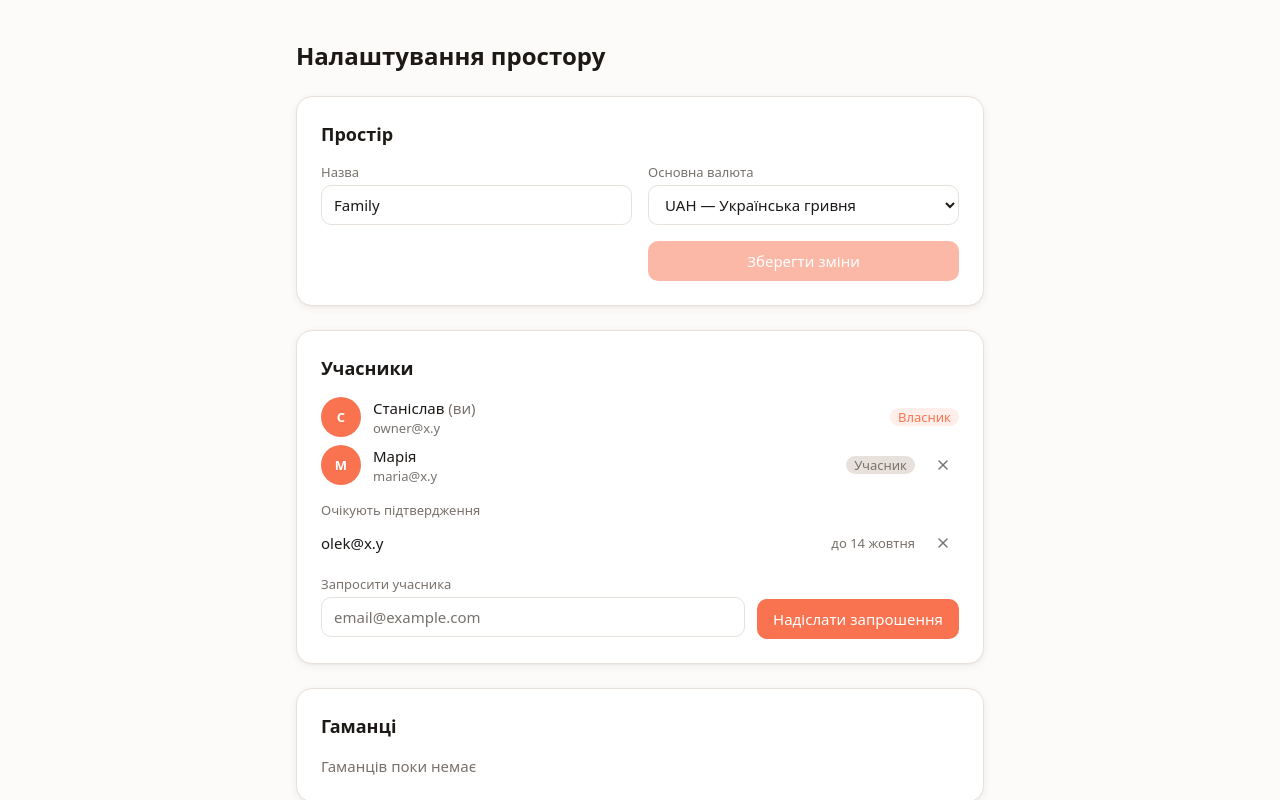
Test: Settings — space management › shows a refusal in the user's language
The width and height of the screenshot is (1280, 800).
Click the button named "Прибрати: Марія" at (943, 465), box [927,449,959,481]
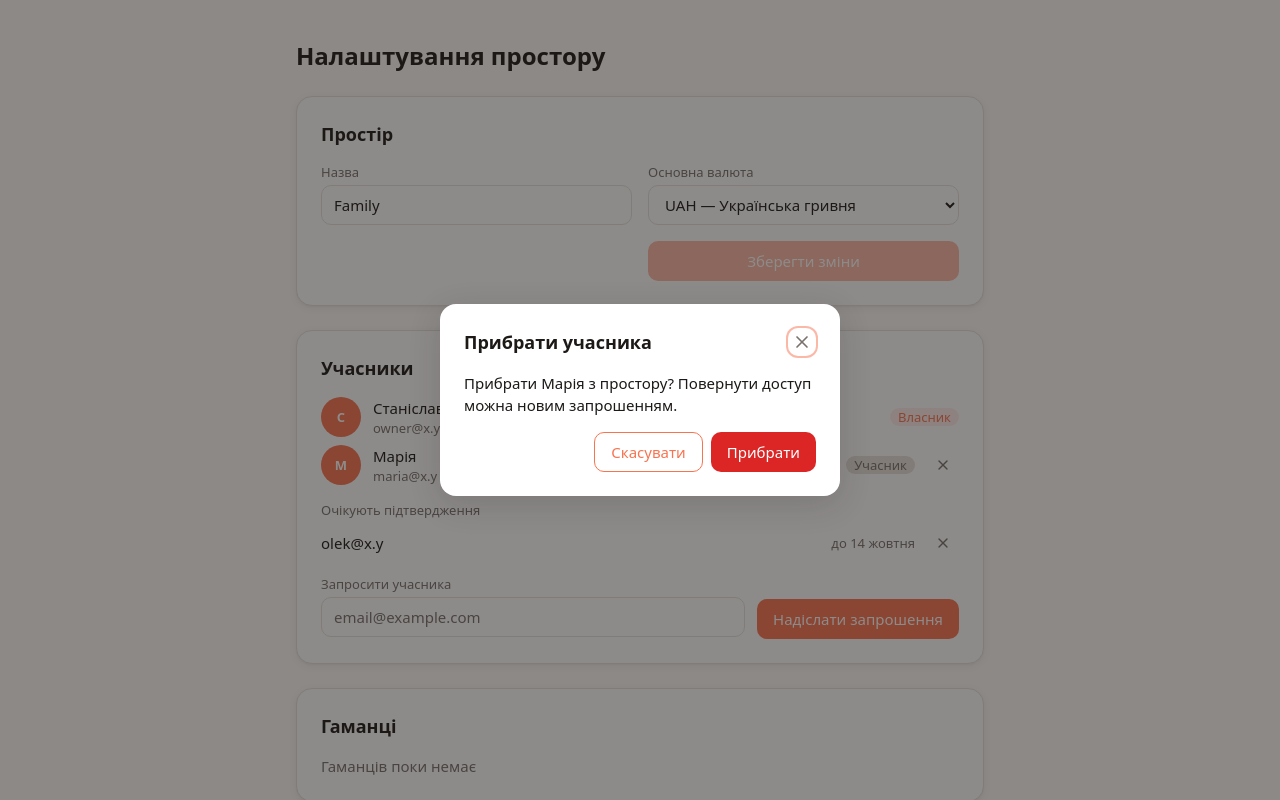
Click the button "Прибрати" at (763, 452), box [711,432,816,472]
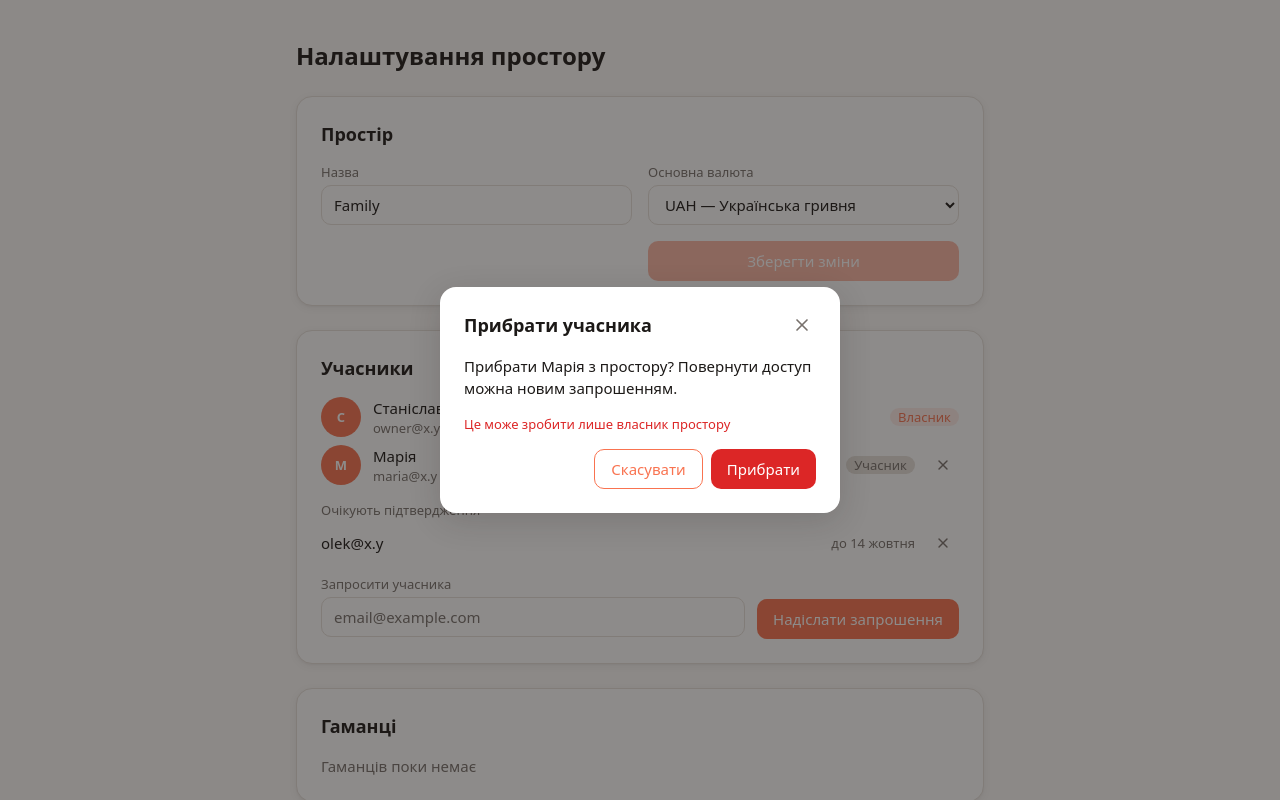
Expected: the message "Це може зробити лише власник простору" is shown, [464,415,730,433]
